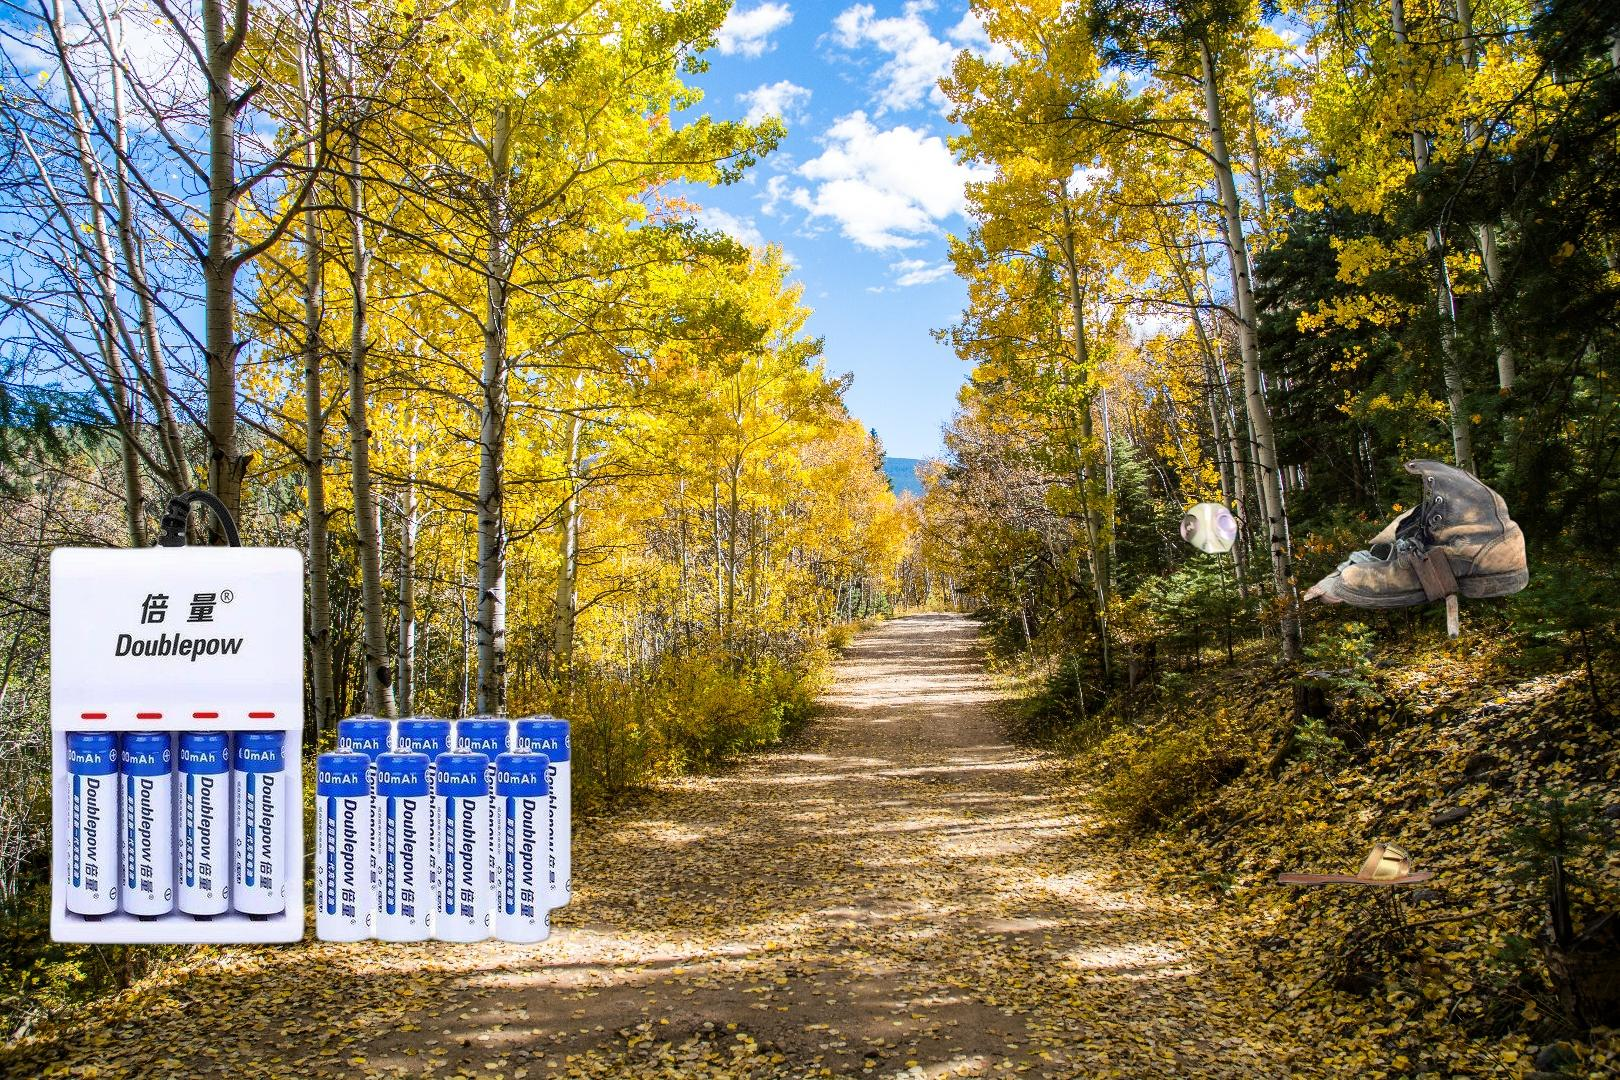battery: (45, 485, 577, 950)
metal-cans: (1175, 495, 1242, 560)
shoes: (1330, 456, 1532, 642), (1301, 522, 1450, 610), (1276, 838, 1437, 888)
